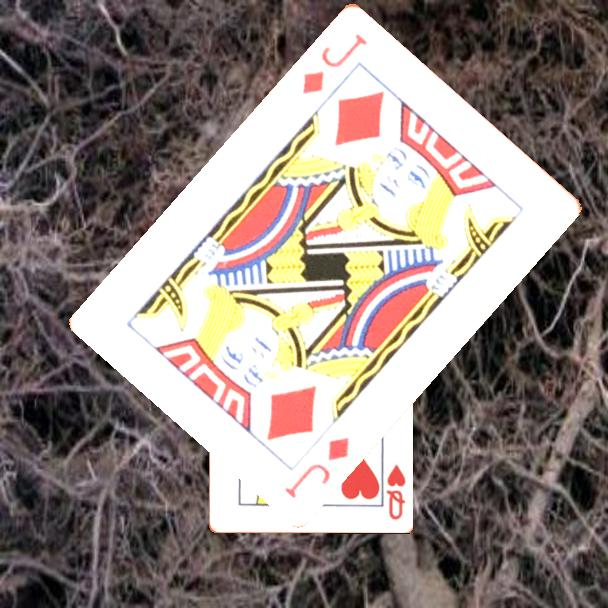d11: (281, 432, 353, 501), (298, 29, 370, 96)
h12: (382, 460, 408, 522)
